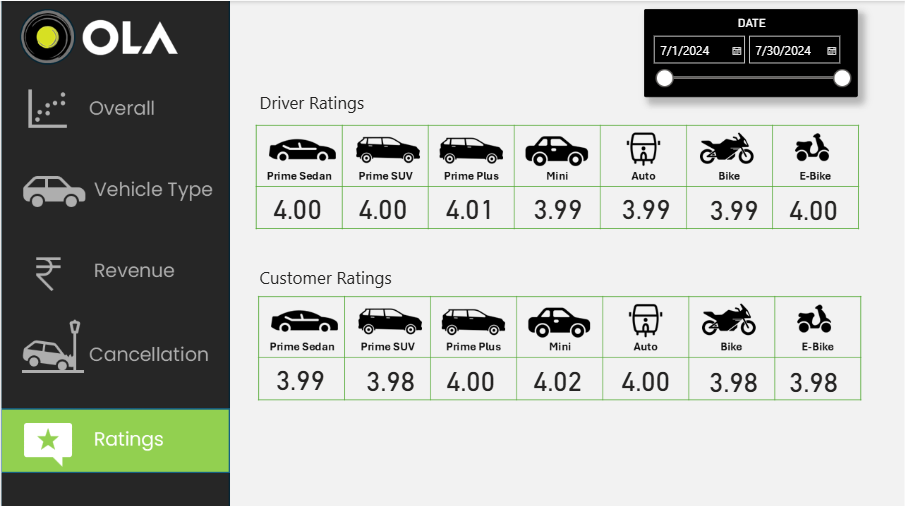

The page's visual inventory and layout, read from the dashboard file:
{"tool":"powerbi","page":{"name":"Ratings","canvas":[1280,720],"ordinal":4},"visuals":[{"type":"actionButton","box":[0,222.5,324.6,90.7],"z":0},{"type":"actionButton","box":[0,340.2,324.6,90.7],"z":1000},{"type":"actionButton","box":[0,446.5,324.6,90.7],"z":2000},{"type":"actionButton","box":[0,106.3,324.6,90.7],"z":3000},{"type":"card","fields":{"Values":["Avg(July.Driver_Ratings)"]},"box":[361.4,268.6,117.1,48.6],"z":4000},{"type":"card","fields":{"Values":["Avg(July.Driver_Ratings)"]},"box":[478.6,268.6,124.3,48.6],"z":5000},{"type":"card","fields":{"Values":["Avg(July.Driver_Ratings)"]},"box":[602.9,268.6,124.3,48.6],"z":6000},{"type":"card","fields":{"Values":["Avg(July.Driver_Ratings)"]},"box":[727.1,268.6,124.3,48.6],"z":7000},{"type":"card","fields":{"Values":["Avg(July.Driver_Ratings)"]},"box":[851.7,268.3,125,48.3],"z":8000},{"type":"card","fields":{"Values":["Avg(July.Driver_Ratings)"]},"box":[976.7,270,125,45],"z":9000},{"type":"card","fields":{"Values":["Avg(July.Driver_Ratings)"]},"box":[1088,270,126,46],"z":10000},{"type":"card","fields":{"Values":["Avg(July.Customer_Rating)"]},"box":[362,512,126,46],"z":11000},{"type":"textbox","box":[361.7,121.7,165,60],"z":12000},{"type":"textbox","box":[361.7,370,220,60],"z":13000},{"type":"card","fields":{"Values":["Avg(July.Customer_Rating)"]},"box":[488.3,511.7,126.7,46.7],"z":14000},{"type":"card","fields":{"Values":["Avg(July.Customer_Rating)"]},"box":[601.7,511.7,126.7,46.7],"z":15000},{"type":"card","fields":{"Values":["Avg(July.Customer_Rating)"]},"box":[725,511.7,126.7,46.7],"z":16000},{"type":"card","fields":{"Values":["Avg(July.Customer_Rating)"]},"box":[850,511.7,126.7,46.7],"z":17000},{"type":"card","fields":{"Values":["Avg(July.Customer_Rating)"]},"box":[975,513.3,126.7,46.7],"z":18000},{"type":"card","fields":{"Values":["Avg(July.Customer_Rating)"]},"box":[1088.3,513.3,126.7,46.7],"z":19000},{"type":"slicer","title":"DATE","fields":{"Values":["July.Date"]},"box":[911.7,11.7,303.3,125],"z":20000}]}

Visuals, with their boxes in screenshot pixels (x1, y1, x2, y2), scaled from the page's 1280x720 canvas onto the 905x506 screenshot:
actionButton: crop(0, 156, 230, 220)
actionButton: crop(0, 239, 230, 303)
actionButton: crop(0, 314, 230, 378)
actionButton: crop(0, 75, 230, 138)
card - Avg(July.Driver_Ratings): crop(256, 189, 338, 223)
card - Avg(July.Driver_Ratings): crop(338, 189, 426, 223)
card - Avg(July.Driver_Ratings): crop(426, 189, 514, 223)
card - Avg(July.Driver_Ratings): crop(514, 189, 602, 223)
card - Avg(July.Driver_Ratings): crop(602, 189, 691, 222)
card - Avg(July.Driver_Ratings): crop(691, 190, 779, 221)
card - Avg(July.Driver_Ratings): crop(769, 190, 858, 222)
card - Avg(July.Customer_Rating): crop(256, 360, 345, 392)
textbox: crop(256, 86, 372, 128)
textbox: crop(256, 260, 411, 302)
card - Avg(July.Customer_Rating): crop(345, 360, 435, 392)
card - Avg(July.Customer_Rating): crop(425, 360, 515, 392)
card - Avg(July.Customer_Rating): crop(513, 360, 602, 392)
card - Avg(July.Customer_Rating): crop(601, 360, 691, 392)
card - Avg(July.Customer_Rating): crop(689, 361, 779, 394)
card - Avg(July.Customer_Rating): crop(769, 361, 859, 394)
"DATE" slicer: crop(645, 8, 859, 96)
